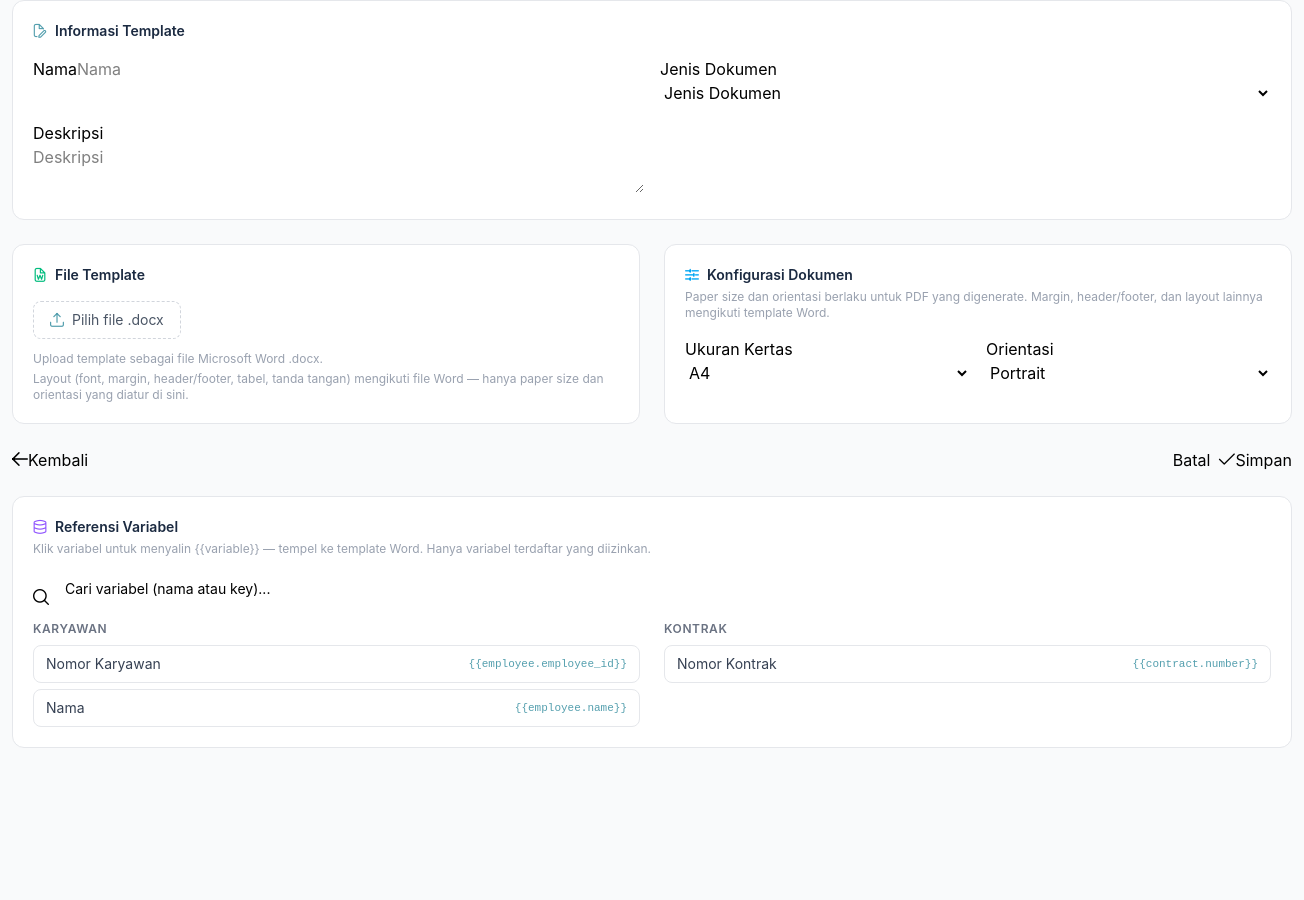
Scenario: DocumentTemplateForm (create) › pencarian variabel memfilter berdasarkan label (terjemahan) atau key
This screenshot has width=1304, height=900.
// Cari label Bahasa Indonesia — label terjemahan ikut dicocokkan.
Type "nomor" into the field with placeholder "Cari variabel (nama atau key)..." at (158, 589), box 33,573 -> 283,605
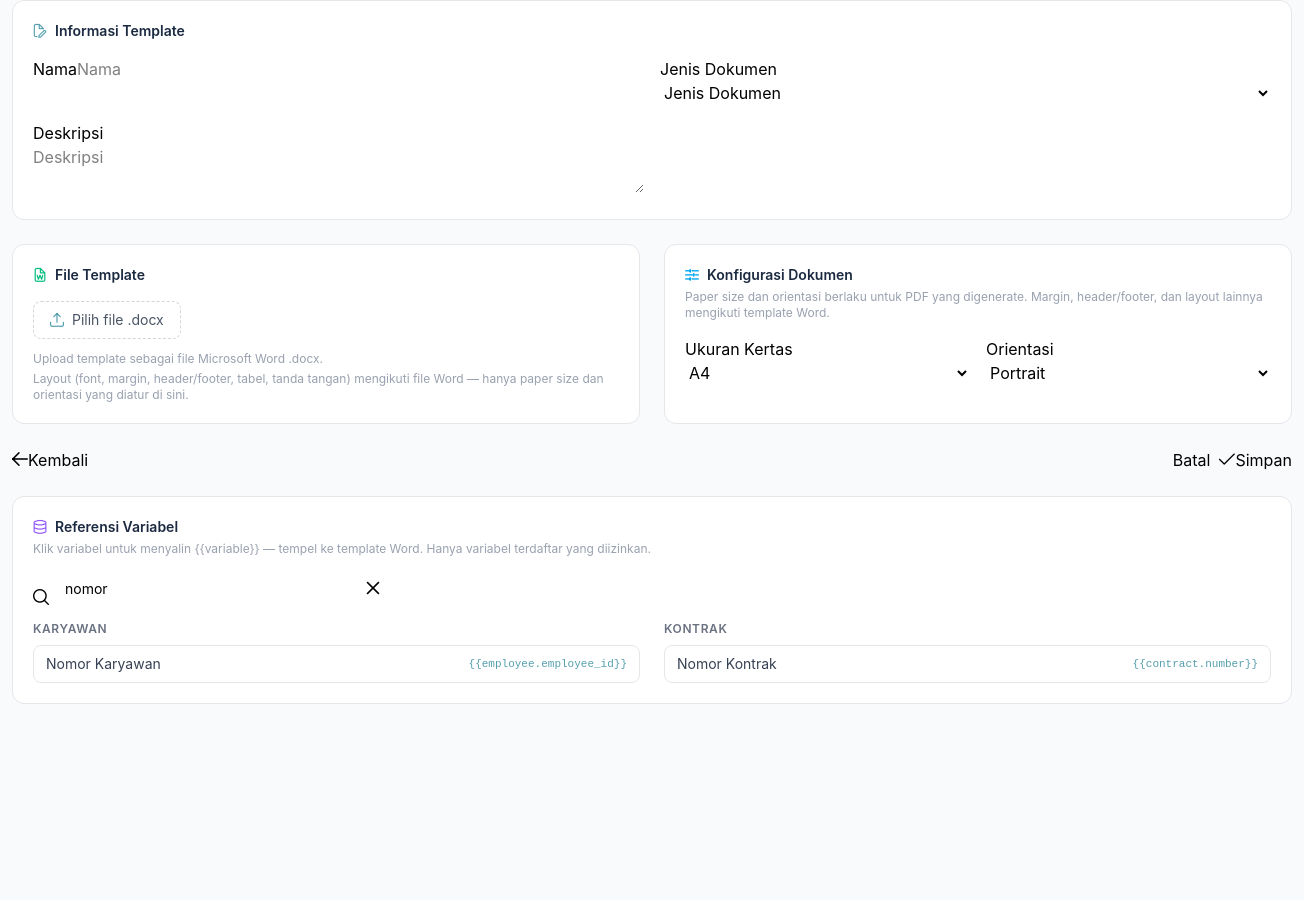
Check: the text "{{contract.number}}" is shown, box 1133,656 -> 1258,672
Check: the text "{{employee.name}}" is gone
// Cari berdasarkan key — hanya variabel yang cocok yang tampil.
Replace the text in the 2nd field with "contract" at (158, 589), box 33,573 -> 283,605
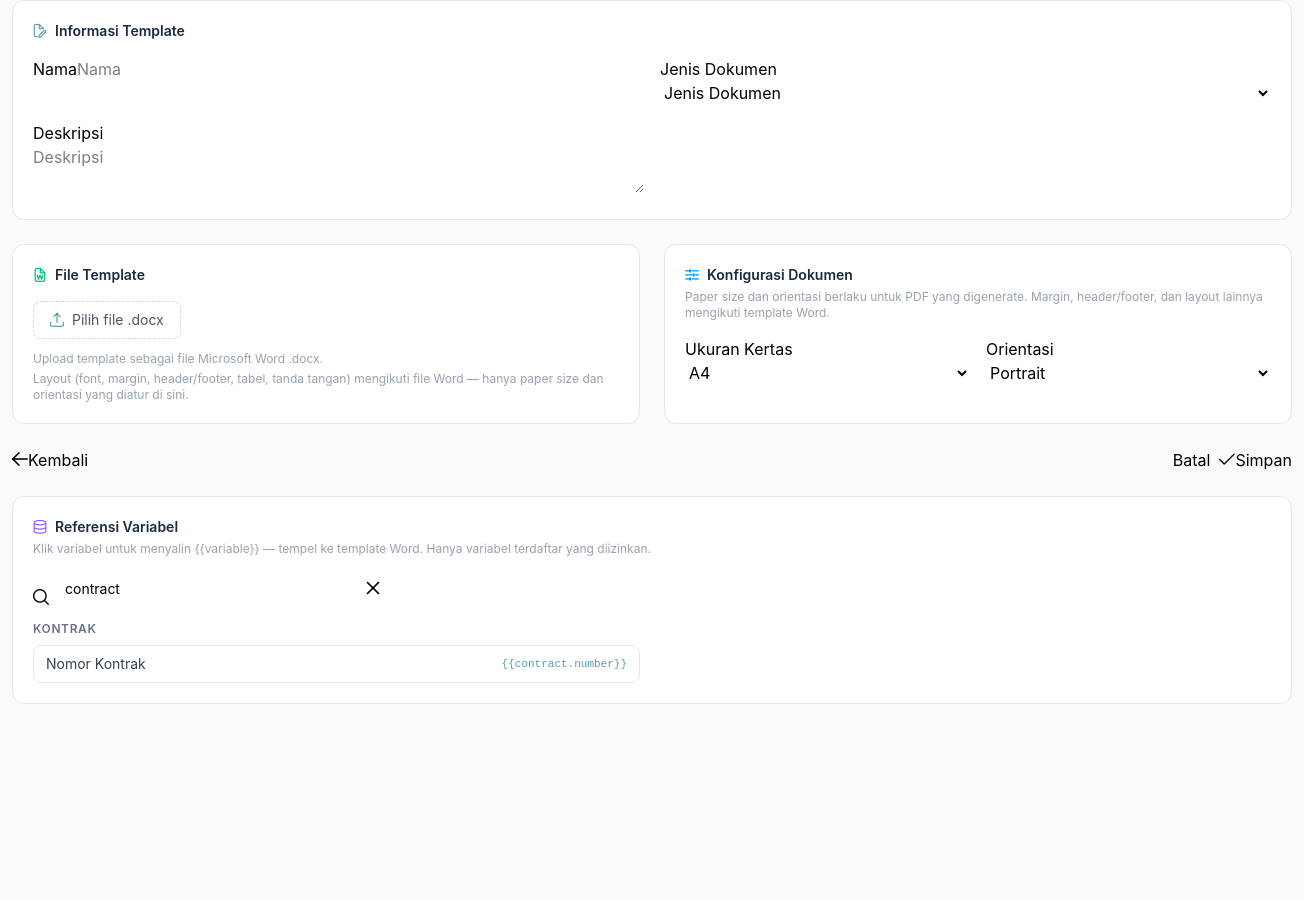
Check: the text "{{contract.number}}" is shown, box 502,656 -> 627,672
Check: the text "{{employee.name}}" is not shown
// Tidak ada yang cocok → pesan kosong.
Replace the text in the 2nd field with "zzzz" at (158, 589), box 33,573 -> 283,605
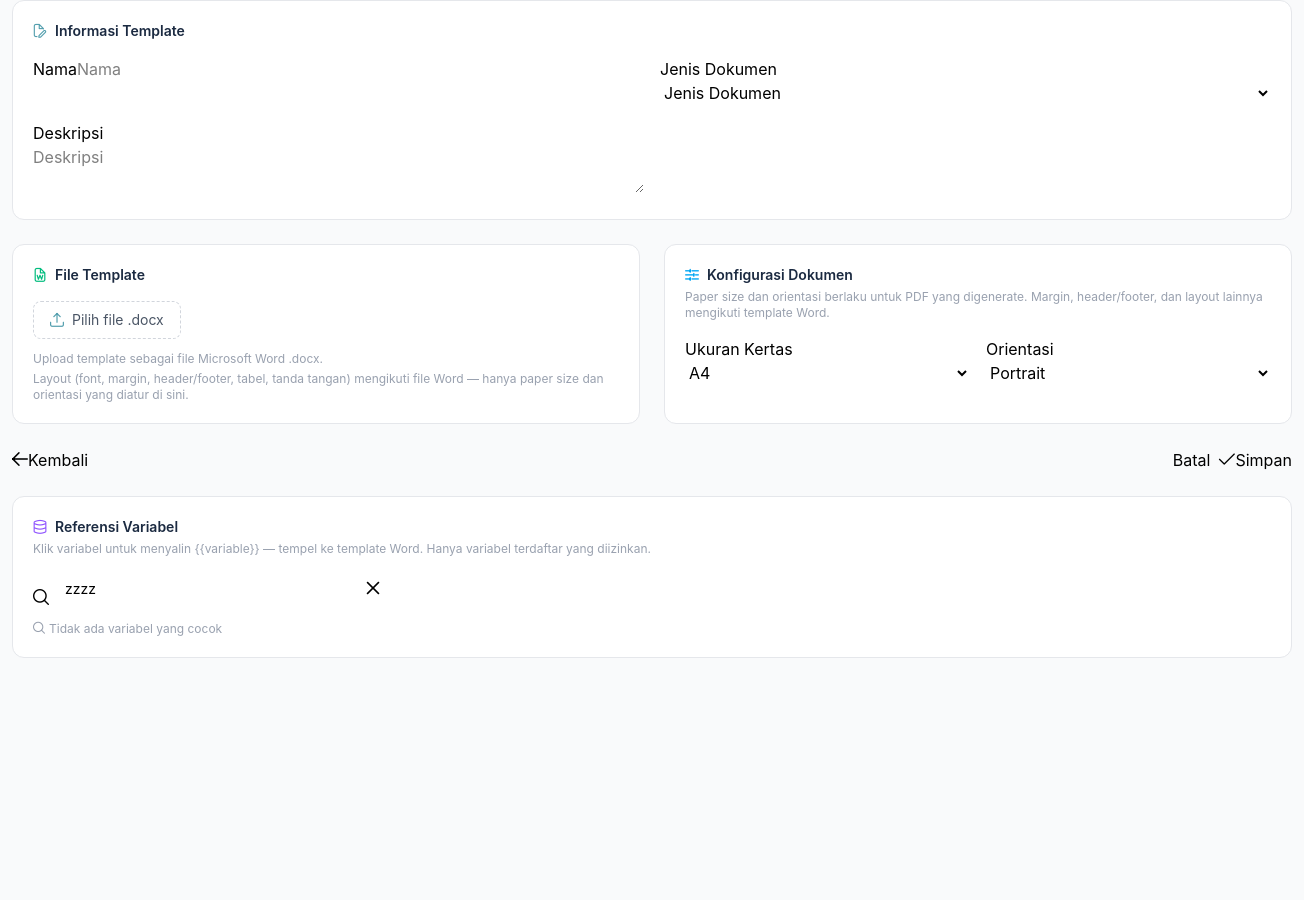
Check: the text "Tidak ada variabel yang cocok" is shown, box 33,621 -> 222,636
// Bersihkan pencarian → semua variabel kembali.
Clear the 2nd field at (158, 589), box 33,573 -> 283,605
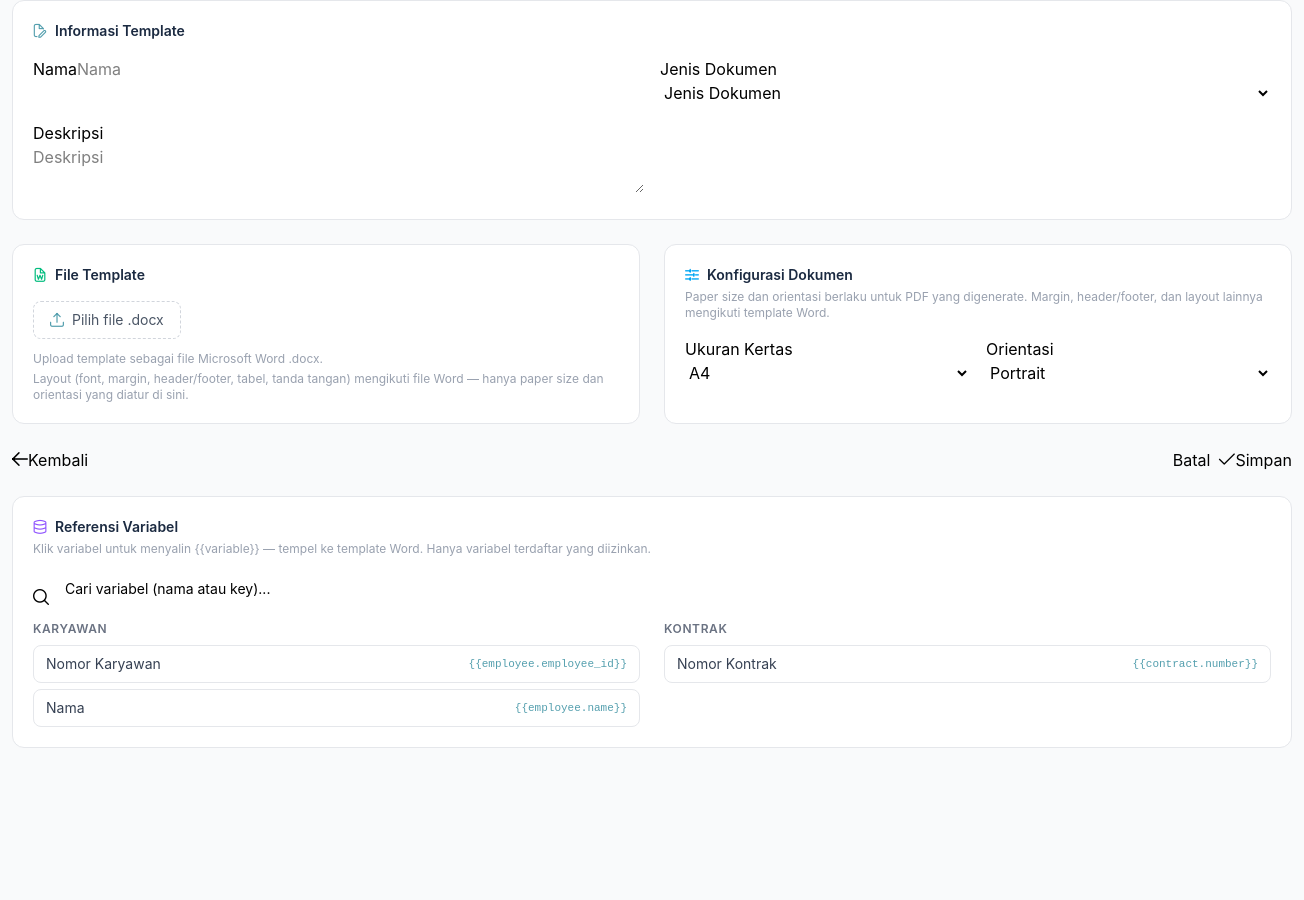
Check: the text "{{employee.name}}" is shown, box 515,700 -> 627,716
